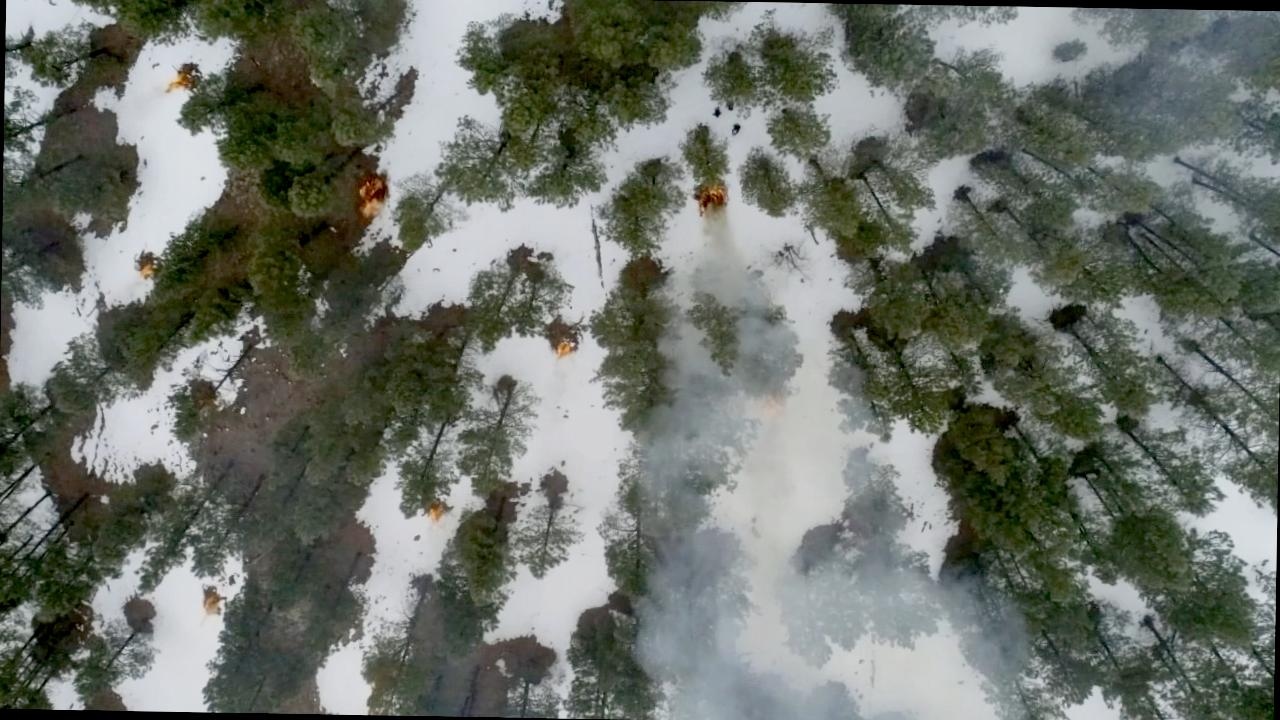fire: (354, 168, 396, 223), (751, 381, 790, 437), (690, 174, 734, 222), (548, 331, 580, 366), (420, 497, 450, 522)
smoke: (627, 486, 1023, 720), (645, 303, 852, 488)
